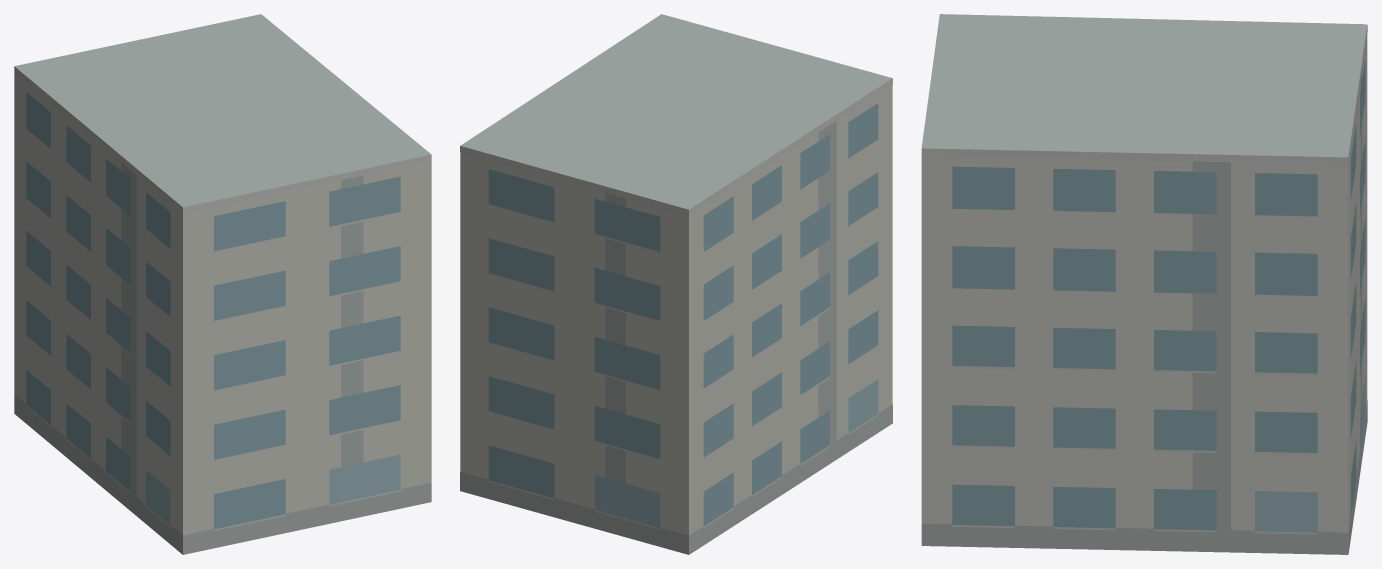
The model's file is survey-upis-32894071.glb.
3 views of the same model, side by side, from view 1: azimuth 30°, elevation 25°; view 2: azimuth 150°, elevation 25°; view 3: azimuth 270°, elevation 25° (orthographic). The views are drawn at different scales.
Visible parts, largest first — view 1: survey-upis-32894071.tmp; view 2: survey-upis-32894071.tmp; view 3: survey-upis-32894071.tmp.
Part boxes in pixels (x1,y1,x2,y2): survey-upis-32894071.tmp: [14, 14, 431, 554]; survey-upis-32894071.tmp: [460, 14, 892, 554]; survey-upis-32894071.tmp: [921, 14, 1367, 554].
Size of the model in its own units: 10.26 by 13.25 by 13.48.
